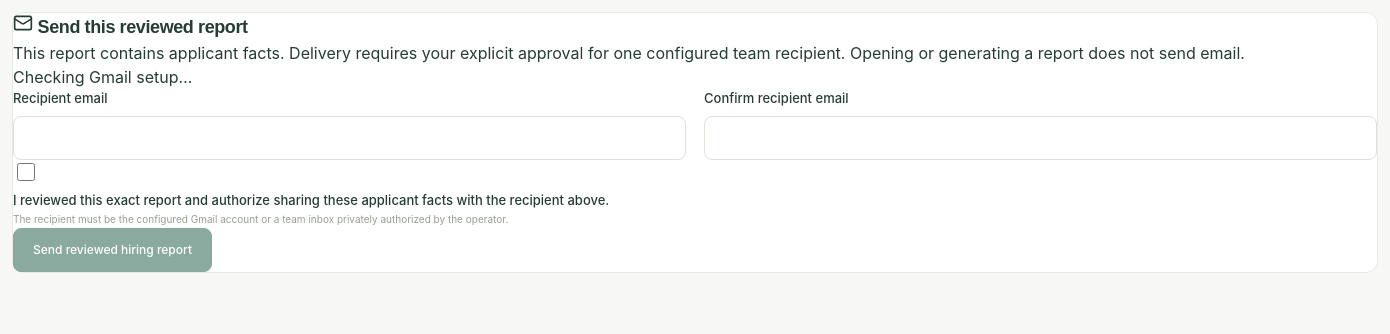
Test case: private hiring dashboard › requires exact recipient confirmation and explicit report review, then distinguishes SMTP acceptance from inbox receipt
Expected: the button "Send reviewed hiring report" is disabled, [13,228,212,272]
Type "reviewer@example.com" into the field labelled "Recipient email" at (350, 138), box [13,116,686,160]
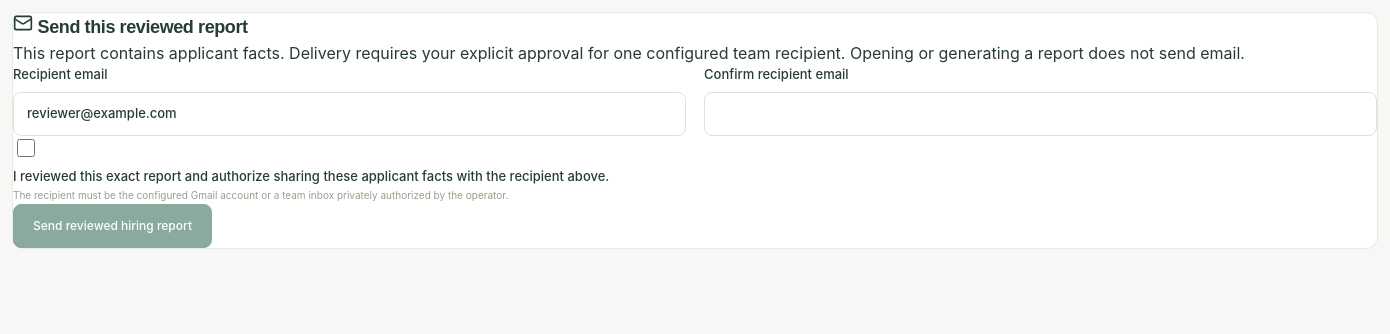
Type "reviewer@example.com" into the field labelled "Confirm recipient email" at (1040, 114), box [704,92,1377,136]
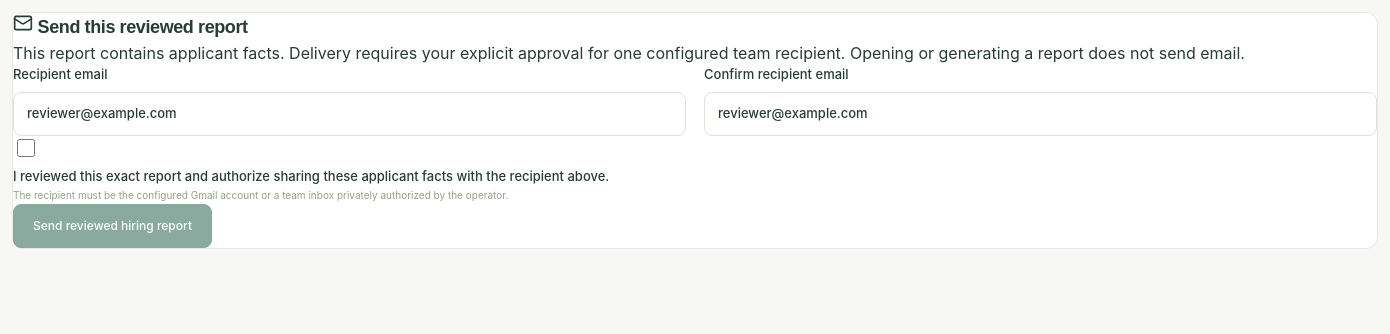
Expected: the button "Send reviewed hiring report" is disabled, [13,204,212,248]
Click the checkbox at (26, 148), box [17,138,35,156]
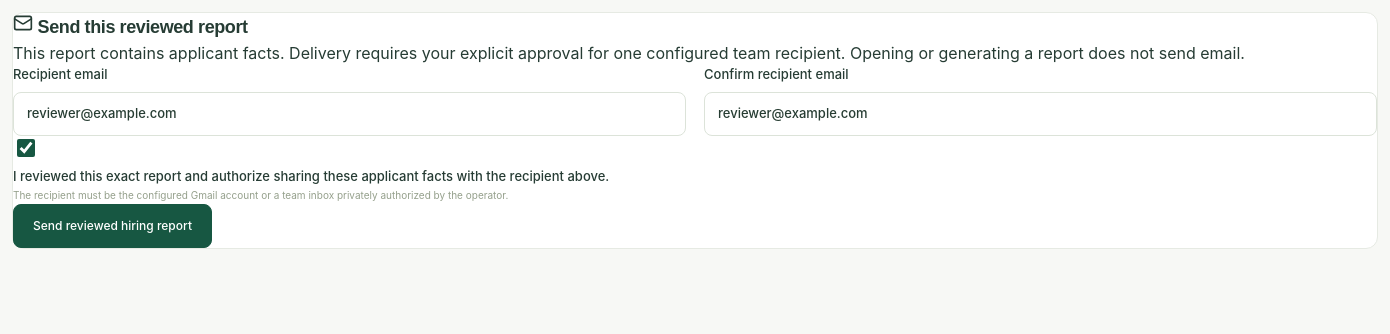
Now the button "Send reviewed hiring report" is enabled
Click the button "Send reviewed hiring report" at (112, 226), box [13,204,212,248]
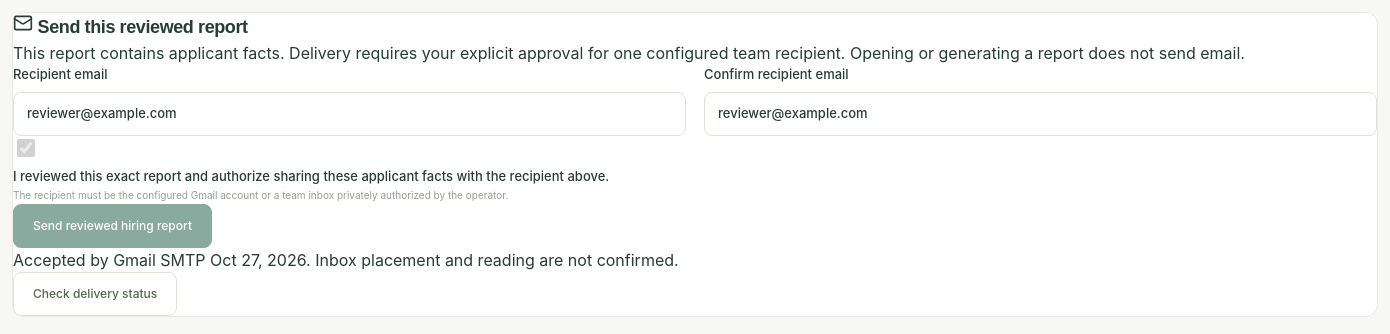
Now the text "Inbox placement and reading are not confirmed" is shown, box [13,250,679,270]
Now the button "Send reviewed hiring report" is disabled, box [13,204,212,248]
